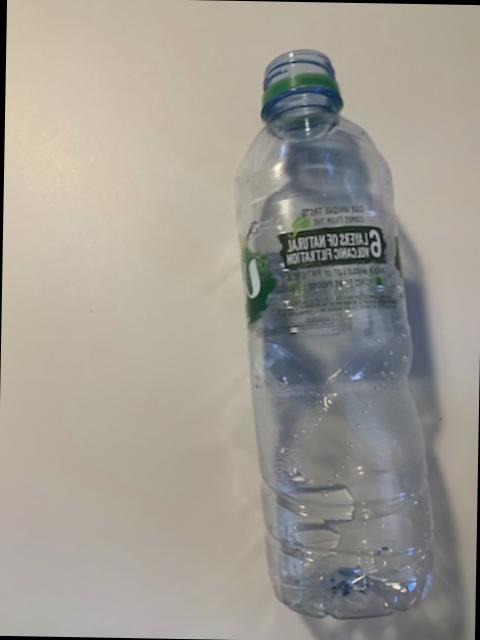plastic: (237, 48, 433, 614)
